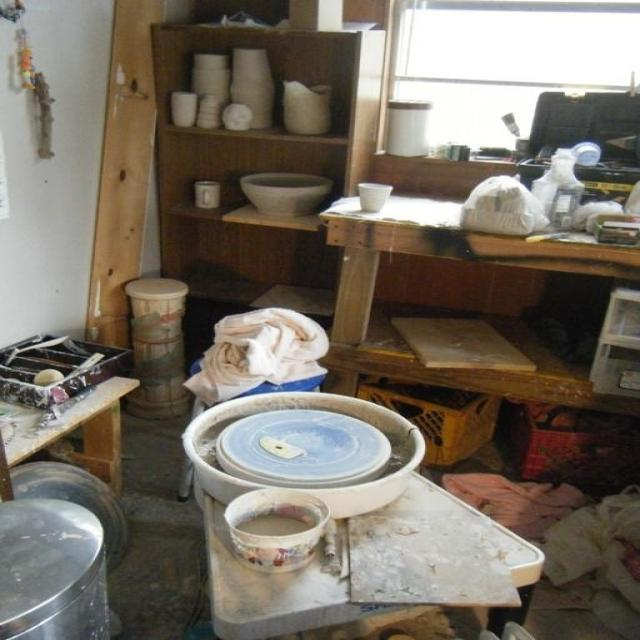Plastics: (156, 378, 413, 610), (152, 37, 352, 175), (122, 280, 203, 423)
